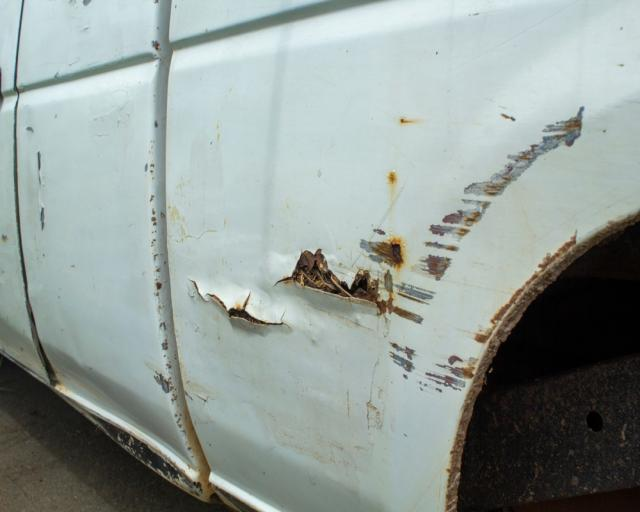crack: (272, 251, 382, 302), (188, 278, 293, 328)
scratch: (383, 103, 588, 392)
